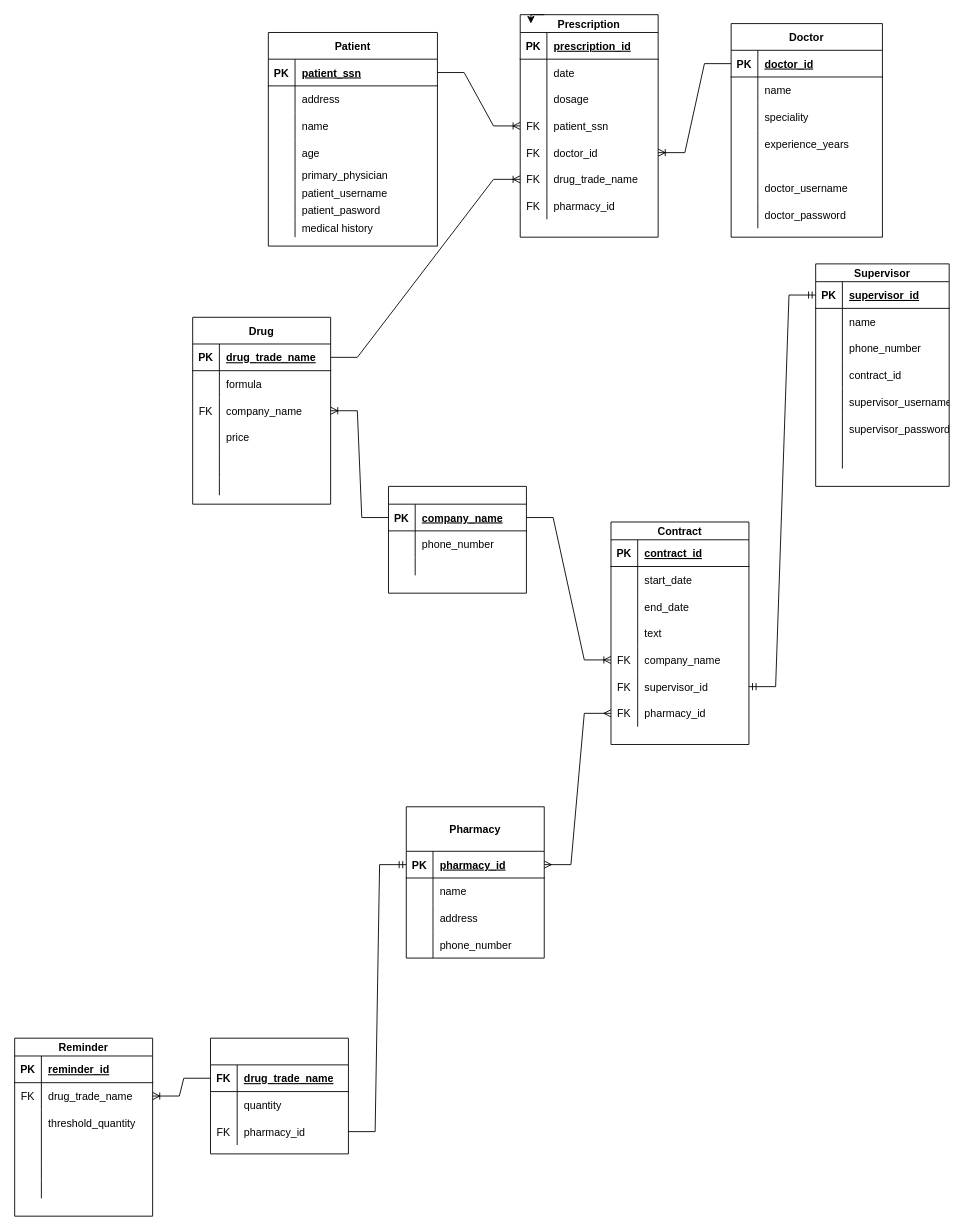
Some shapes in this 967 by 1231 pixel diagram are drawn without their labels. The box of each missing label's shape, as (x1, y1, x2, y2) in pixels:
Inventory: (210, 1037, 348, 1154)
Pharmaceutical Company: (388, 485, 526, 593)
